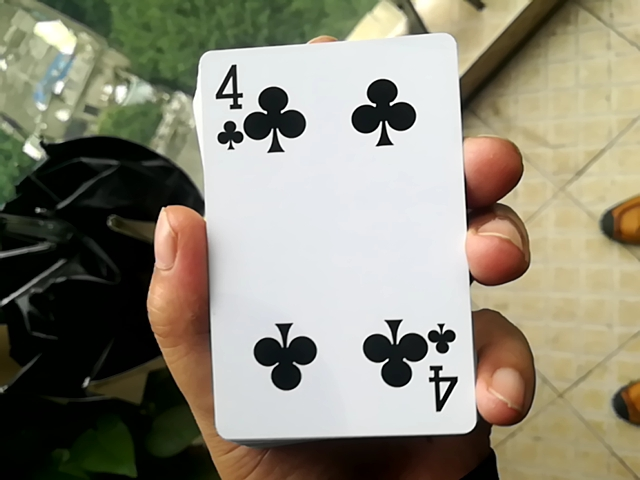mh 4: (181, 16, 479, 437)
